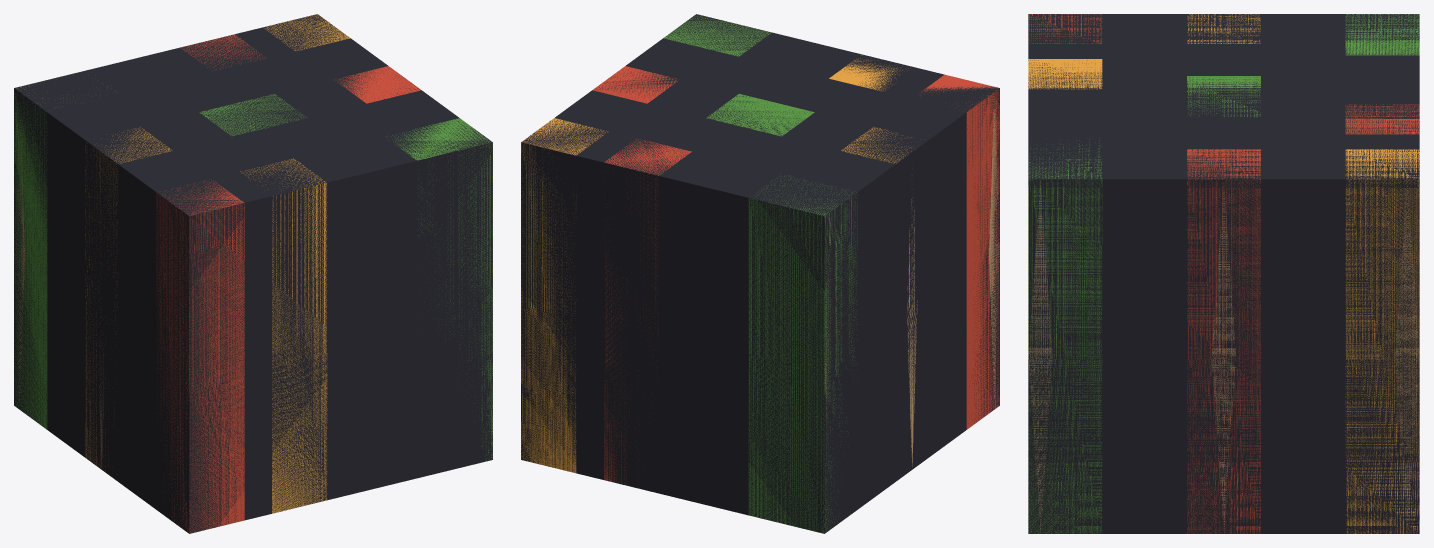
File: ile-braise.glb
3 renders of one model, left to right at view 1: azimuth 30°, elevation 25°; view 2: azimuth 150°, elevation 25°; view 3: azimuth 270°, elevation 25°, orthographic. The views are drawn at different scales.
Parts seen in each view (by area): view 1: braise_decor; view 2: braise_decor; view 3: braise_decor.
Boxes of the visible parts, x1,y1,x2,y2 form: braise_decor: (14, 14, 492, 533); braise_decor: (521, 14, 999, 533); braise_decor: (1028, 14, 1419, 533).
Bounding box in the file's own units: 2 × 2 × 2.
